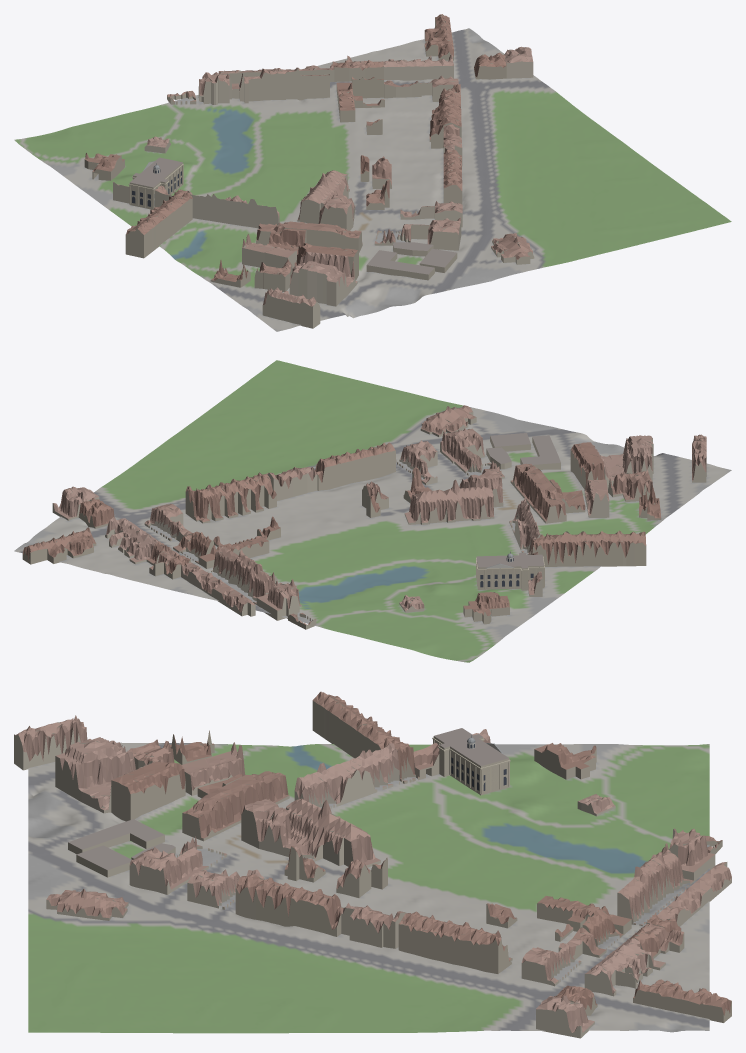
3 renders of one model, top to bottom at view 1: azimuth 30°, elevation 25°; view 2: azimuth 150°, elevation 25°; view 3: azimuth 270°, elevation 25°, orthographic. The views are drawn at different scales.
Parts seen in each view (by area): view 1: ground, b:way/148828383, b:way/161131043, b:way/161131065, b:way/93900079, b:relation/17359664, b:way/161131057, b:way/161131060, b:way/1258968804, b:way/161131068, b:way/191546289, b:way/1054161939 (+19 smaller); view 2: ground, b:way/161131043, b:way/93900079, b:way/161131050, b:way/172008805, b:way/161131060, b:way/1258968804, b:relation/17359664, b:way/161131065, b:way/148828383, b:way/161131068, b:way/170821091 (+19 smaller); view 3: ground, b:way/93900079, b:way/161131050, b:way/172008805, b:way/148828383, b:way/161131057, b:way/161131043, b:way/1258968804, b:way/161131060, b:way/1201741949, b:relation/17359664, b:way/161131065 (+24 smaller).
Boxes of the visible parts, box(x1,y1,x2,y2) form: ground: box(14, 28, 731, 331); b:way/148828383: box(289, 252, 357, 306); b:way/161131043: box(125, 189, 192, 258); b:way/161131065: box(239, 67, 329, 103); b:way/93900079: box(297, 170, 355, 230); b:relation/17359664: box(366, 242, 457, 280); b:way/161131057: box(187, 191, 280, 228); b:way/161131060: box(128, 157, 183, 209); b:way/1258968804: box(256, 221, 362, 252); b:way/161131068: box(374, 217, 461, 250); b:way/191546289: box(262, 287, 320, 328); b:way/1054161939: box(383, 54, 453, 80); ground: box(14, 360, 731, 662); b:way/161131043: box(530, 530, 646, 566); b:way/93900079: box(404, 468, 503, 524); b:way/161131050: box(185, 472, 276, 523); b:way/172008805: box(315, 442, 395, 490); b:way/161131060: box(476, 551, 544, 590); b:way/1258968804: box(510, 463, 566, 523); b:relation/17359664: box(486, 433, 560, 469); b:way/161131065: box(207, 546, 277, 604); b:way/148828383: box(593, 435, 653, 488); b:way/161131068: box(440, 428, 504, 478); b:way/170821091: box(22, 527, 96, 564); ground: box(28, 742, 709, 1033); b:way/93900079: box(241, 798, 380, 867); b:way/161131050: box(398, 911, 512, 973); b:way/172008805: box(235, 874, 343, 936); b:way/148828383: box(55, 737, 154, 813); b:way/161131057: box(294, 743, 402, 808); b:way/161131043: box(312, 691, 419, 783); b:way/1258968804: box(182, 771, 289, 841); b:way/161131060: box(432, 728, 510, 795); b:way/1201741949: box(111, 761, 185, 821); b:relation/17359664: box(68, 819, 175, 877); b:way/161131065: box(617, 843, 693, 925).
Bounding box in the file's own units: 274 × 21.25 × 263.
